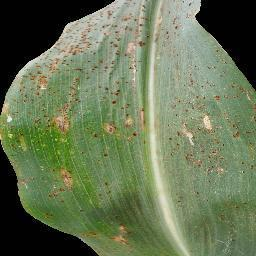Corn_Common_Rust: (164, 49, 256, 178), (63, 51, 146, 142), (64, 0, 205, 49), (0, 49, 63, 115), (0, 115, 64, 147), (83, 218, 136, 256), (46, 162, 78, 206), (220, 216, 238, 244), (13, 174, 37, 193), (227, 198, 251, 216), (96, 180, 115, 200), (98, 151, 112, 168), (195, 186, 206, 203), (42, 214, 59, 224), (174, 191, 183, 209)
